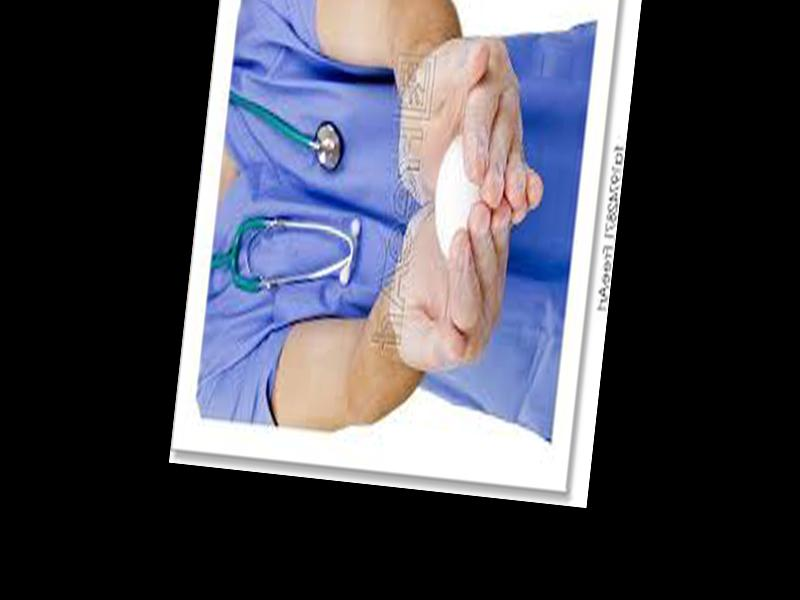Eggs: (428, 137, 489, 263)
